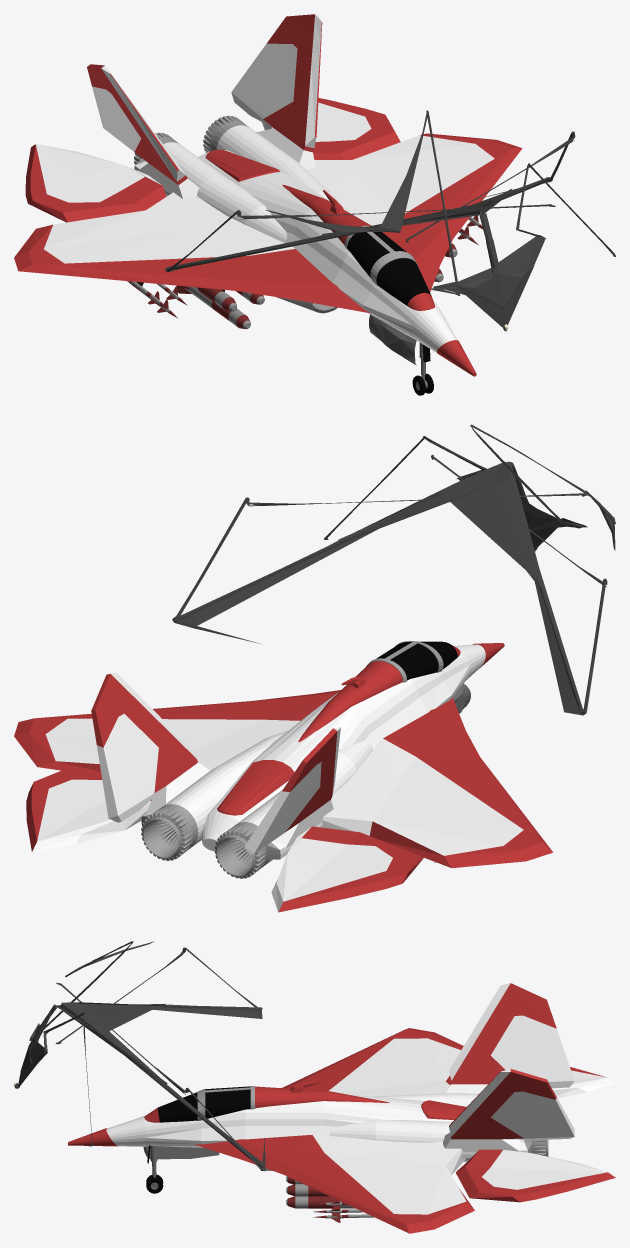
The model's file is spaceship2.glb.
3 views of the same model, one above another, from view 1: azimuth 30°, elevation 25°; view 2: azimuth 150°, elevation 25°; view 3: azimuth 270°, elevation 25° (orthographic). The views are drawn at different scales.
Visible parts, largest first — view 1: Cube_19, MIDDLE, Boole, Tail_2, Rear_wing, Cylinder_1_12, Tail, Rear_wing_2, Cylinder_48, Cube_15, Cylinder_49, Airbrake (+4 smaller); view 2: Cube_19, MIDDLE, Tail_2, Boole, Rear_wing, Rear_wing_2, Cylinder_1_14, Cylinder_1_12, Tail, Cylinder_49, Airbrake, Cylinder_48 (+1 smaller); view 3: Cube_19, Boole, Tail, MIDDLE, Tail_2, Rear_wing_2, Cylinder_1_12, Cylinder_48, Cylinder_49, Cube_15, Rear_wing, Wheel_cover_ (+3 smaller).
Part boxes in pixels (bbox=[...]): Cube_19: bbox=[14, 133, 522, 313]; MIDDLE: bbox=[165, 110, 615, 331]; Boole: bbox=[198, 150, 457, 352]; Tail_2: bbox=[231, 14, 322, 152]; Rear_wing: bbox=[25, 144, 166, 222]; Cylinder_1_12: bbox=[134, 125, 337, 242]; Tail: bbox=[87, 64, 187, 184]; Rear_wing_2: bbox=[262, 98, 400, 159]; Cylinder_48: bbox=[344, 225, 431, 305]; Cube_15: bbox=[138, 128, 315, 199]; Cylinder_49: bbox=[282, 185, 434, 310]; Airbrake: bbox=[205, 149, 279, 181]; Cube_19: bbox=[14, 690, 552, 868]; MIDDLE: bbox=[172, 424, 615, 715]; Tail_2: bbox=[91, 672, 198, 822]; Boole: bbox=[201, 644, 485, 851]; Rear_wing: bbox=[271, 826, 423, 912]; Rear_wing_2: bbox=[26, 769, 151, 852]; Cylinder_1_14: bbox=[141, 804, 280, 878]; Cylinder_1_12: bbox=[142, 731, 372, 864]; Tail: bbox=[244, 727, 340, 854]; Cylinder_49: bbox=[298, 645, 460, 741]; Airbrake: bbox=[217, 760, 294, 815]; Cylinder_48: bbox=[366, 641, 457, 682]; Cube_19: bbox=[195, 1028, 474, 1233]; Boole: bbox=[106, 1095, 453, 1147]; Tail: bbox=[449, 983, 574, 1088]; MIDDLE: bbox=[14, 941, 265, 1171]; Tail_2: bbox=[449, 1068, 574, 1139]; Rear_wing_2: bbox=[455, 1149, 615, 1202]; Cylinder_1_12: bbox=[329, 1093, 527, 1161]; Cylinder_48: bbox=[158, 1086, 255, 1122]; Cylinder_49: bbox=[144, 1086, 389, 1122]; Cube_15: bbox=[443, 1084, 520, 1152]; Rear_wing: bbox=[552, 1067, 615, 1098]; Wheel_cover_: bbox=[143, 1145, 219, 1159].
Size of what is drawn, in the model's own units: 74.89 by 41.92 by 92.61.
